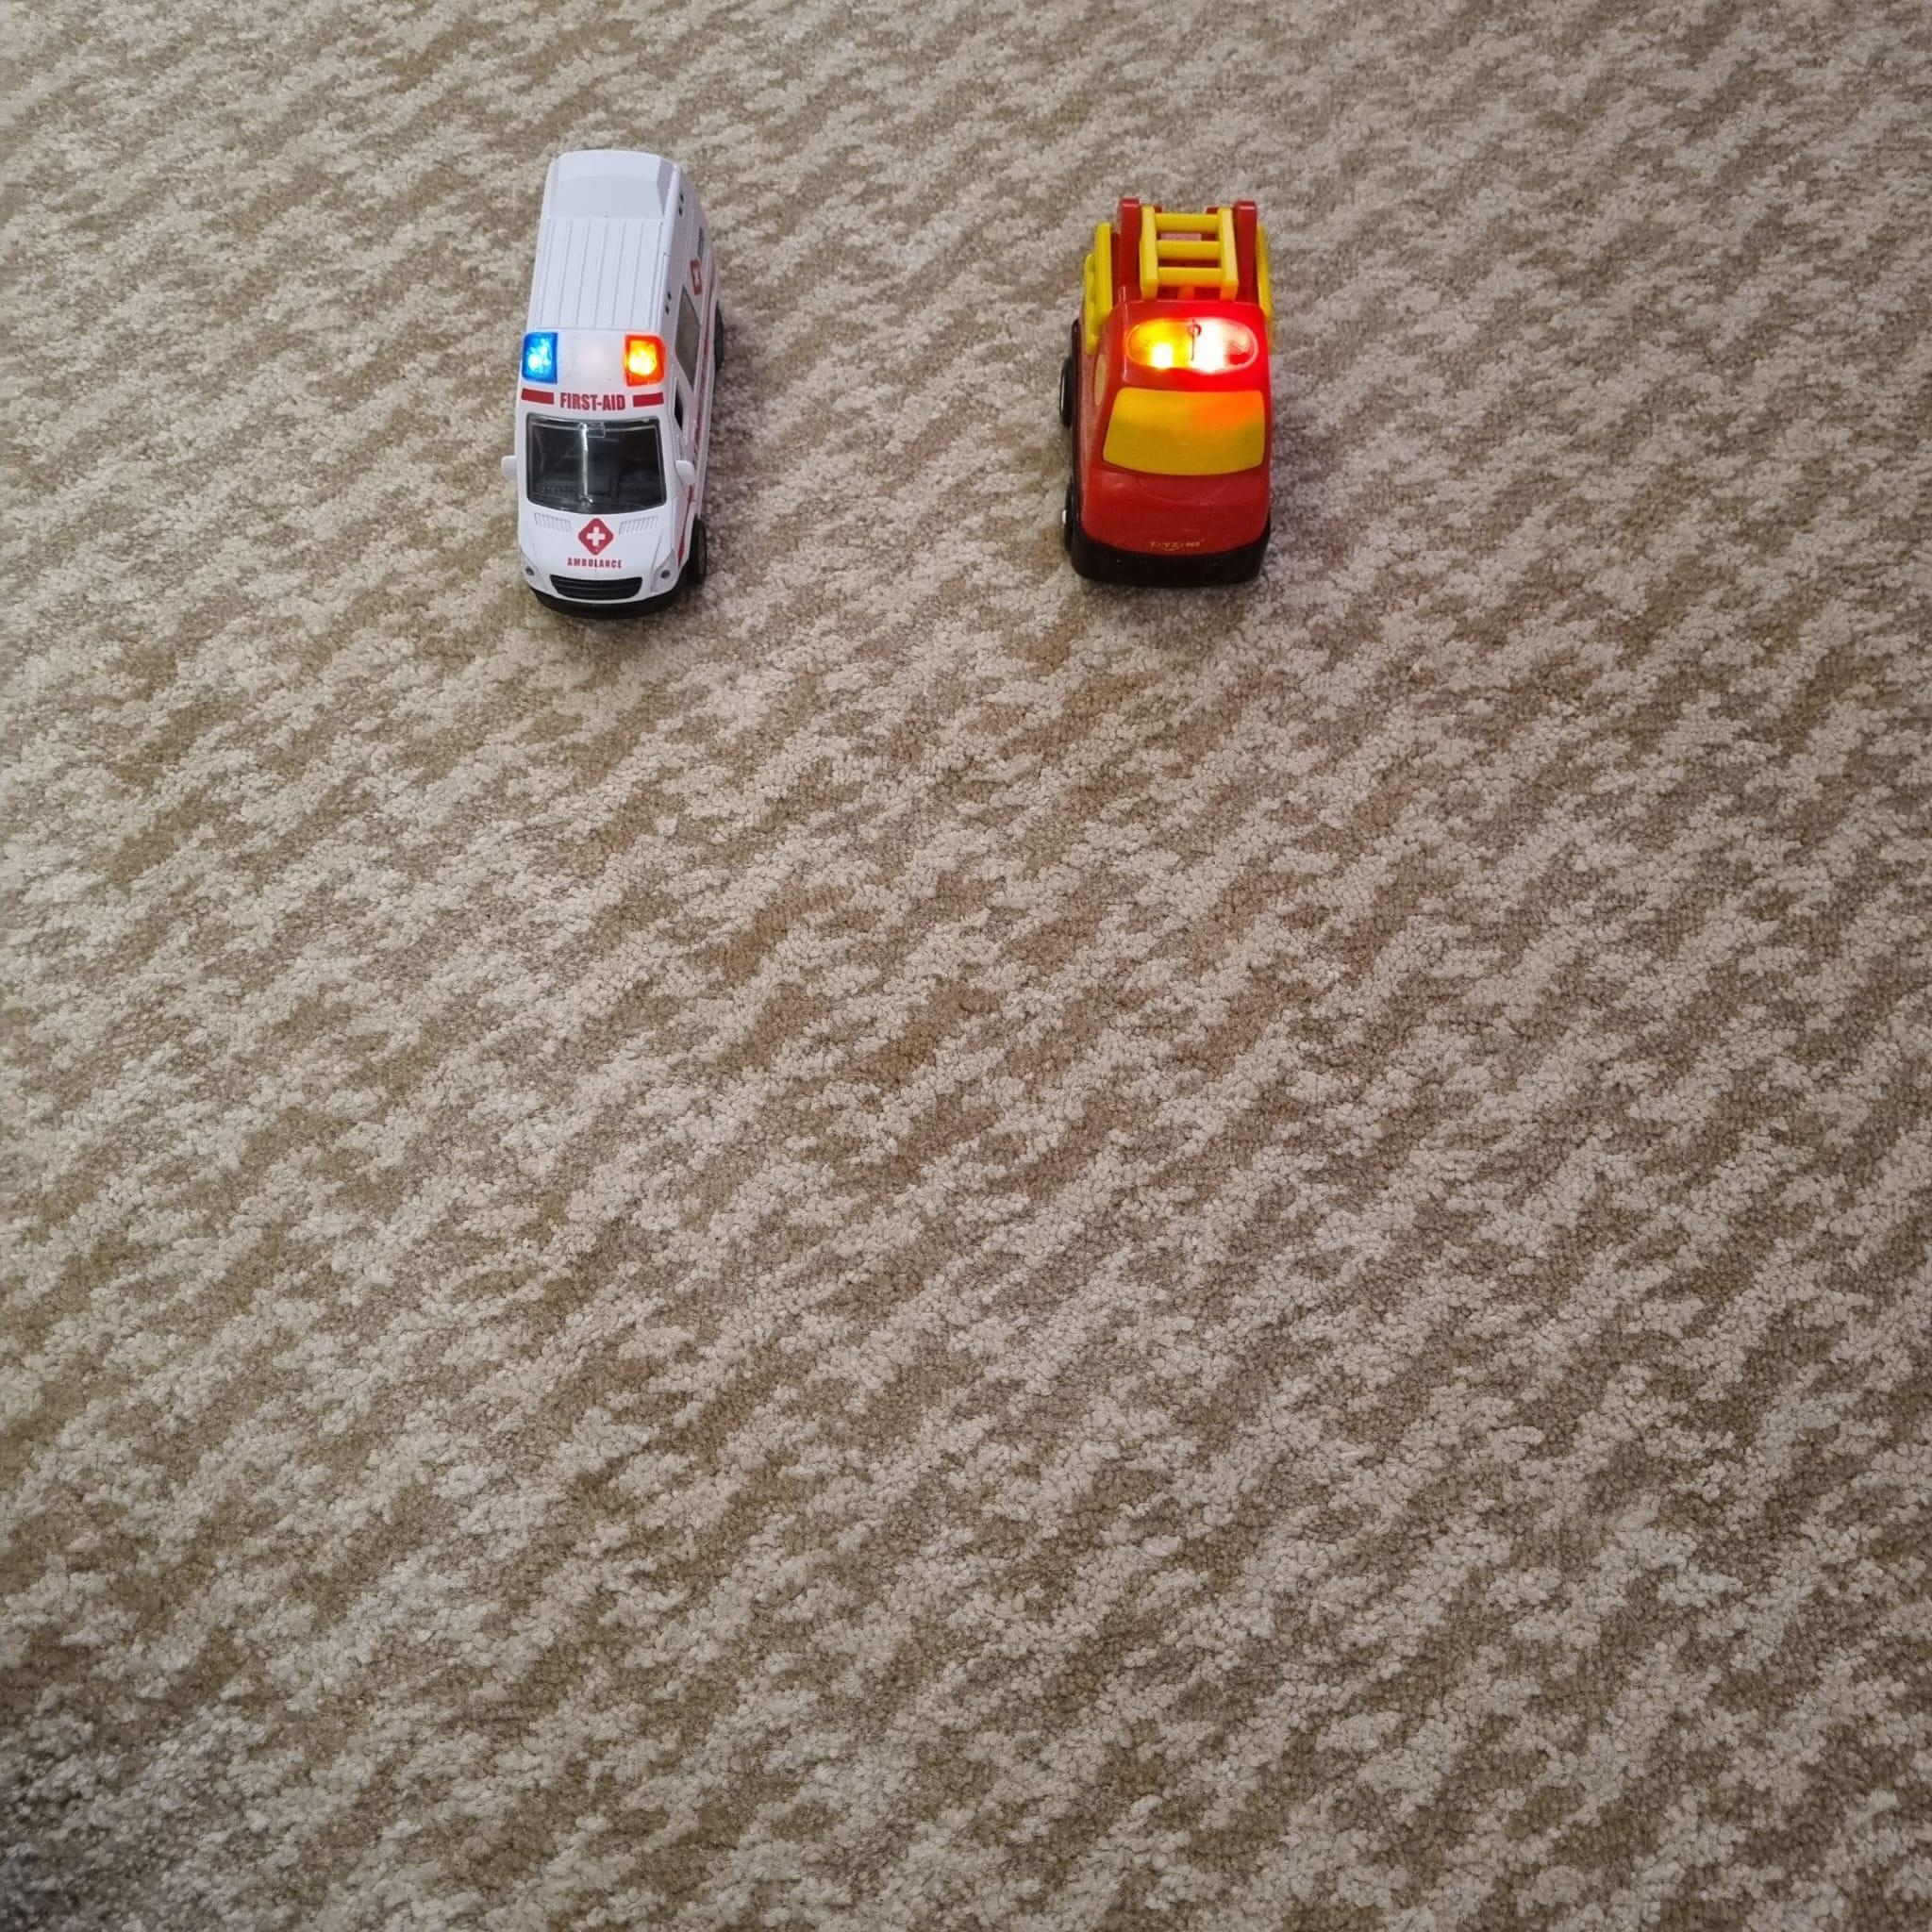ambulance_on: (512, 147, 728, 620)
firetruck_on: (1056, 199, 1274, 590)
